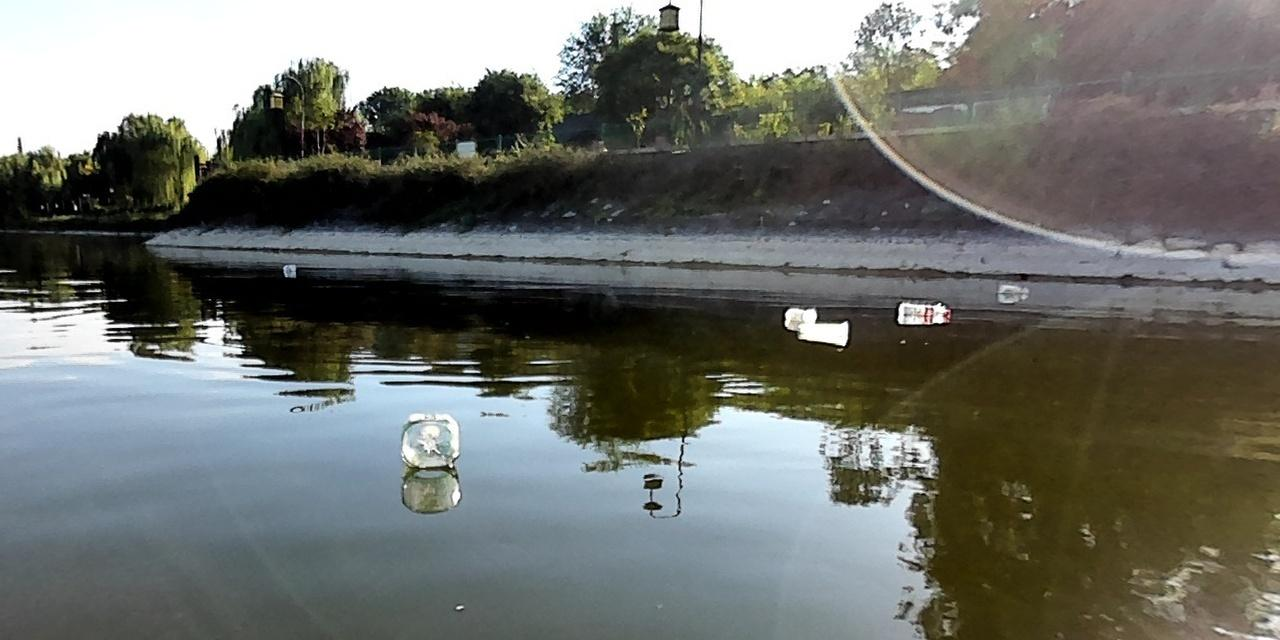bottle: (395, 404, 465, 471), (794, 317, 851, 345), (893, 299, 954, 324), (783, 302, 818, 325), (994, 280, 1030, 296), (278, 260, 298, 272)
